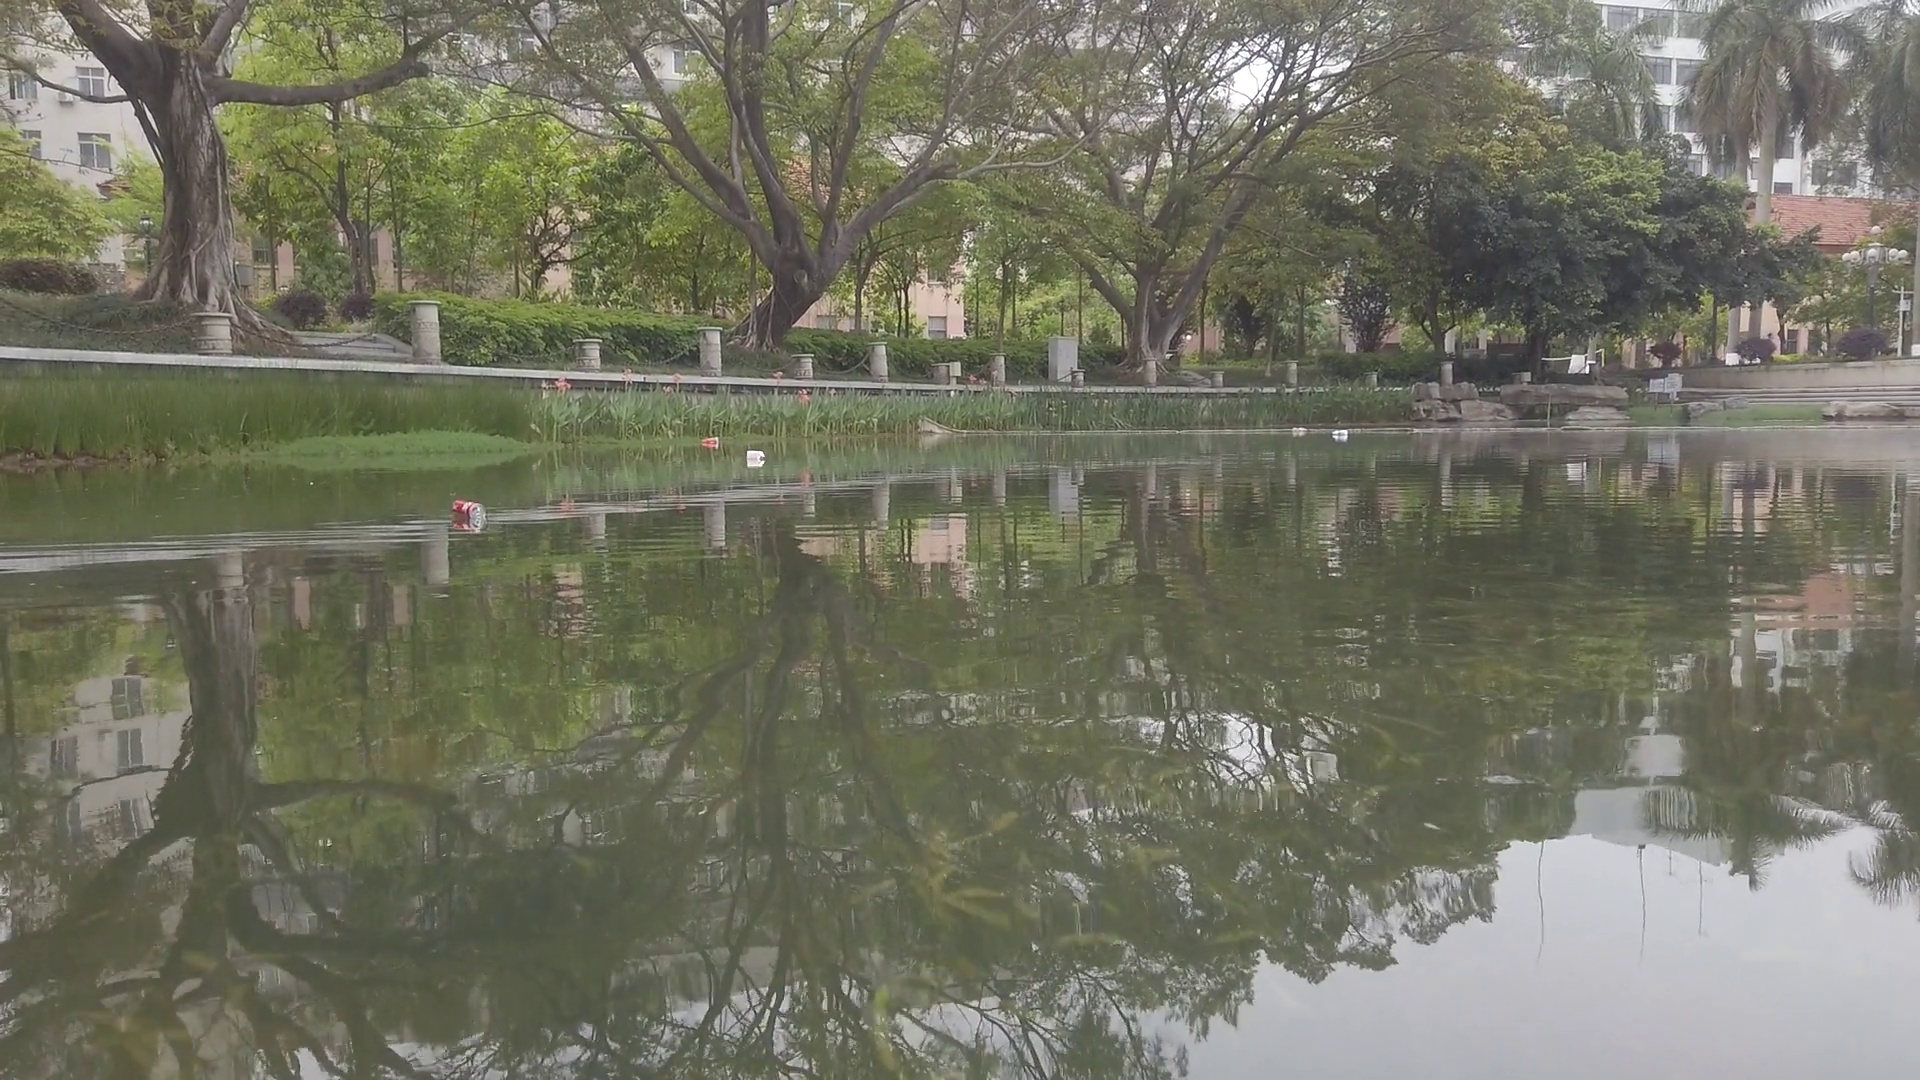bottle: (451, 498, 484, 518), (702, 436, 719, 446), (1332, 429, 1348, 436), (1292, 427, 1309, 433)
carton: (748, 451, 764, 460)
